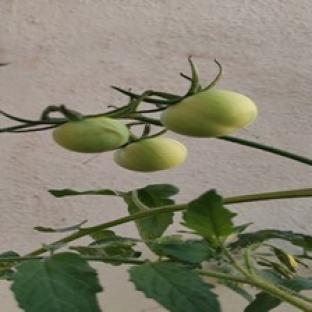Tomato: (161, 90, 257, 136), (53, 116, 129, 153), (113, 137, 186, 171)
